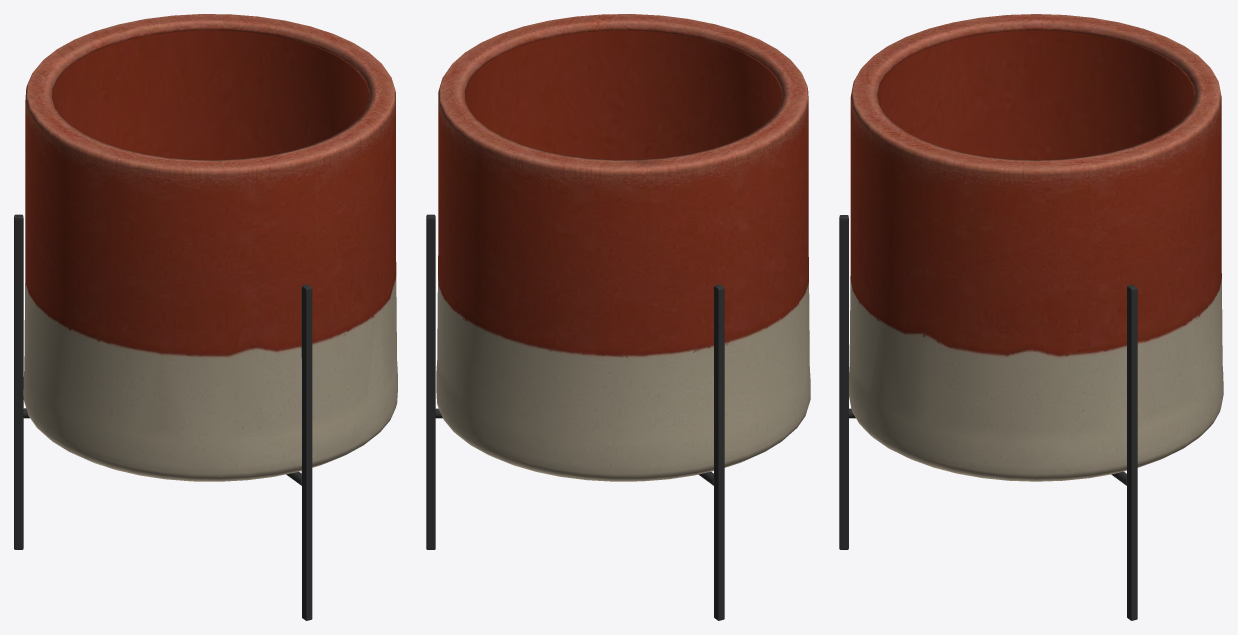
File: abo-b07cbnz6r9.850d30729b.glb
3 views of the same model, side by side, from view 1: azimuth 30°, elevation 25°; view 2: azimuth 150°, elevation 25°; view 3: azimuth 270°, elevation 25° (orthographic).
Parts seen in each view (by area): view 1: RootNode; view 2: RootNode; view 3: RootNode.
Boxes of the visible parts, x1=… form: RootNode: x1=14, y1=14, x2=397, y2=620; RootNode: x1=426, y1=14, x2=810, y2=620; RootNode: x1=839, y1=14, x2=1223, y2=620.
Bounding box in the file's own units: 0.3452 × 0.4648 × 0.3538.
Materials: 1 (1 with a texture image).
